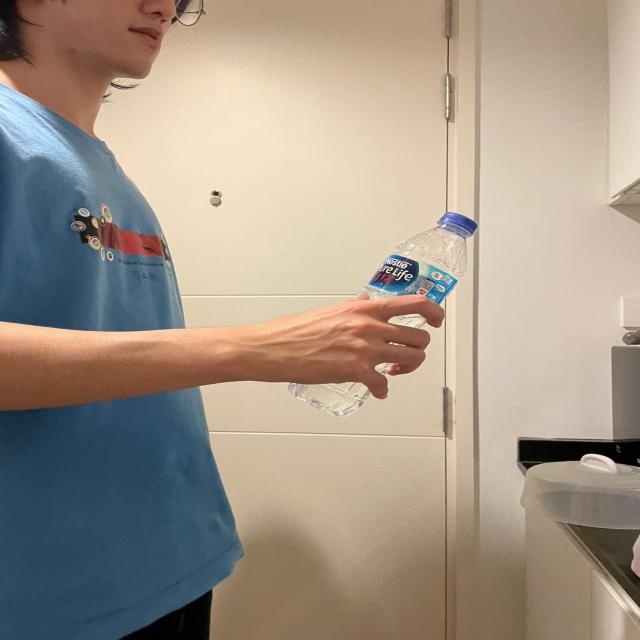bottle: (284, 209, 483, 419)
